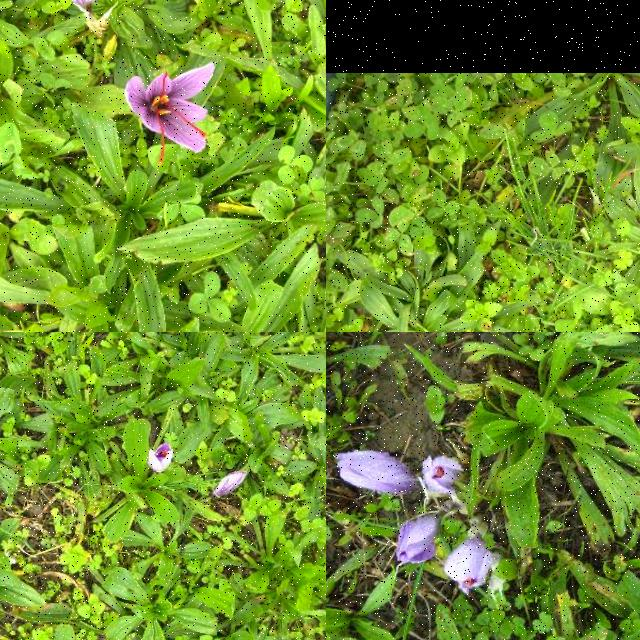flower: (124, 63, 216, 164), (336, 452, 416, 494), (444, 539, 494, 597), (396, 517, 442, 565), (422, 457, 464, 498), (214, 472, 248, 498), (148, 443, 174, 473)
